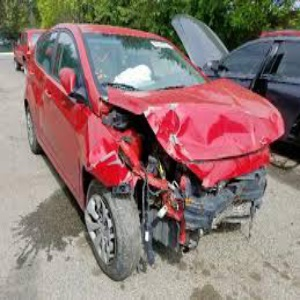bonnet: (133, 88, 283, 151)
bumper: (141, 166, 271, 253)
